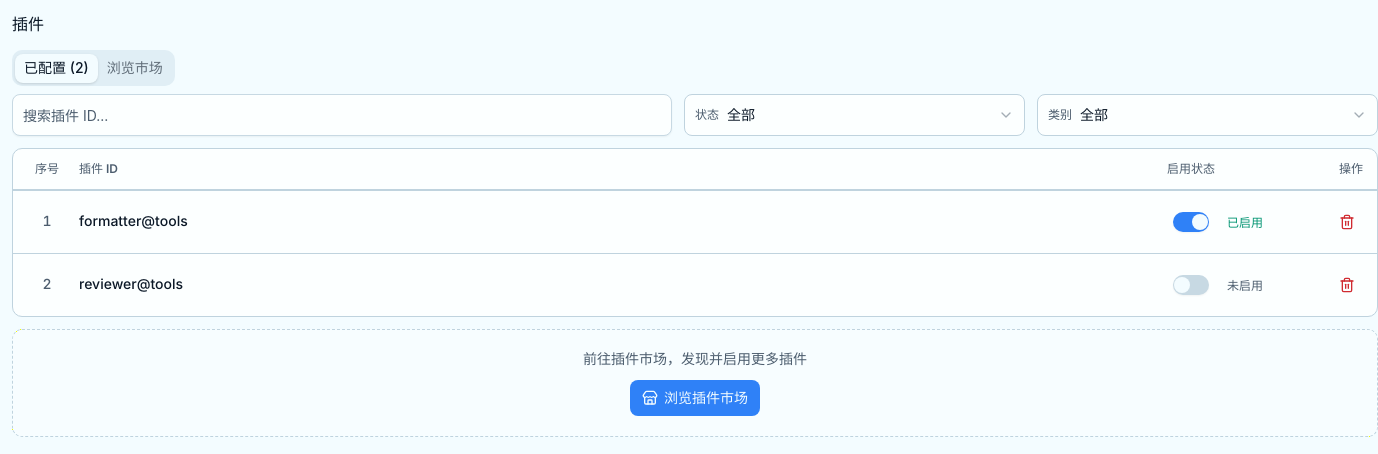
Test case: EnabledPluginsEditor › Tab 1 已启用 › 搜索过滤插件列表
Type "formatter" into the field labelled "搜索插件 ID" at x=342, y=115, box 23,95 -> 661,135
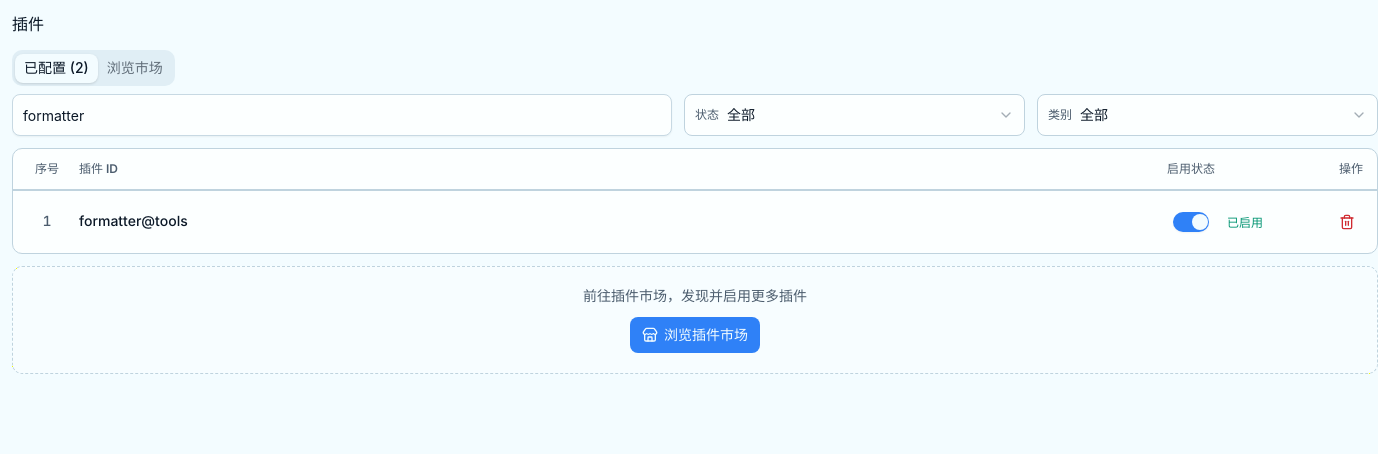
Expected: the text "formatter@tools" is shown, 79,212 -> 188,232
Now the text "reviewer@tools" is gone
